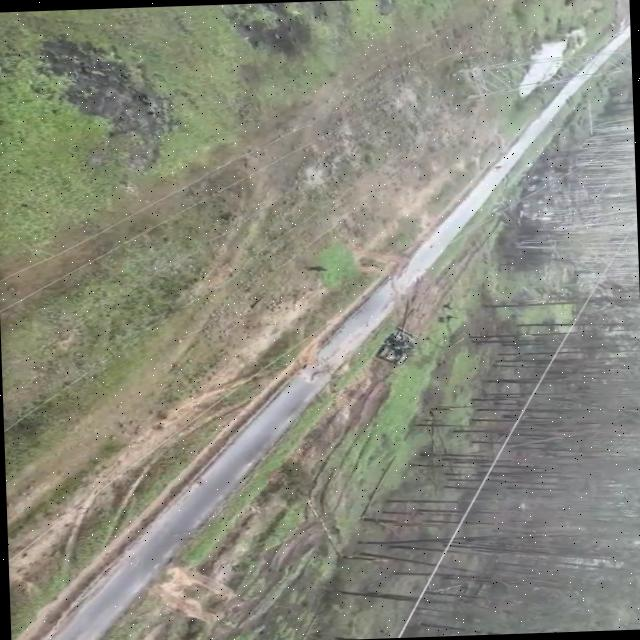MBT: (376, 309, 430, 366)
